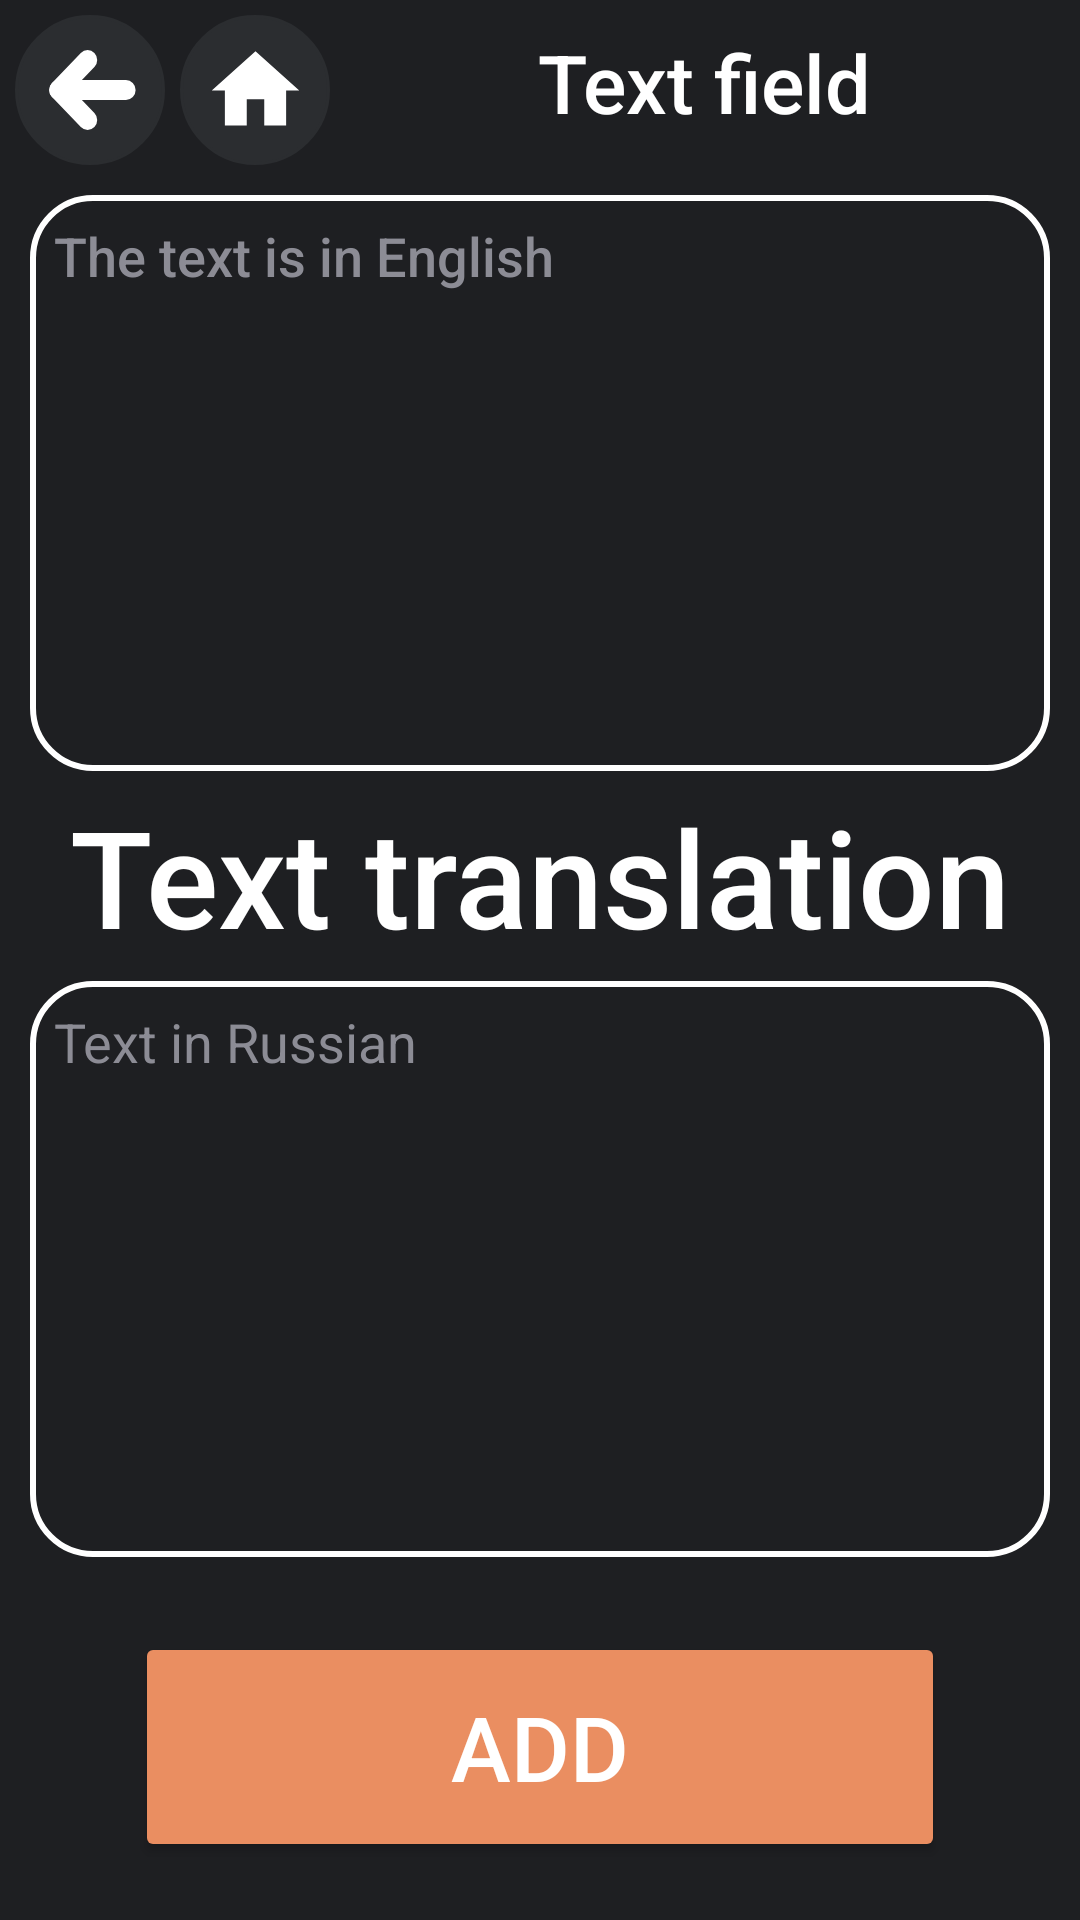

Icons on this 1080 × 1920 Android screen, each with its box as (x1, y1, x2, y2):
back: (15, 15, 165, 165)
home: (212, 51, 299, 126)
